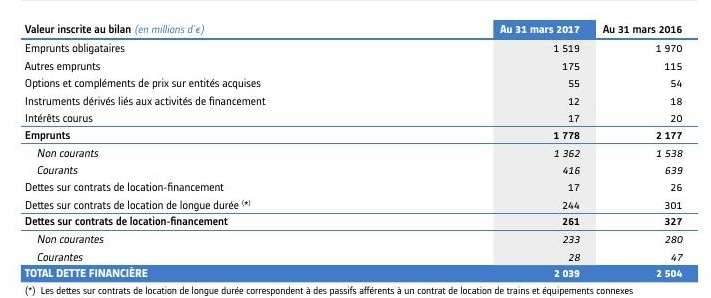table: (0, 0, 711, 298)
